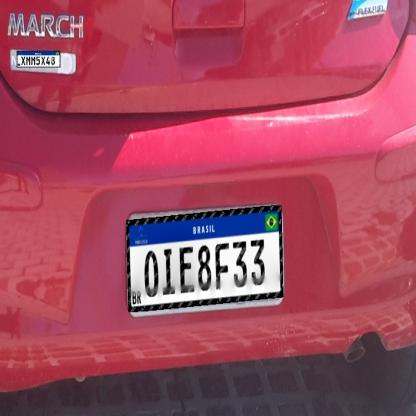PlacaM: (126, 206, 284, 312), (17, 51, 61, 67)
